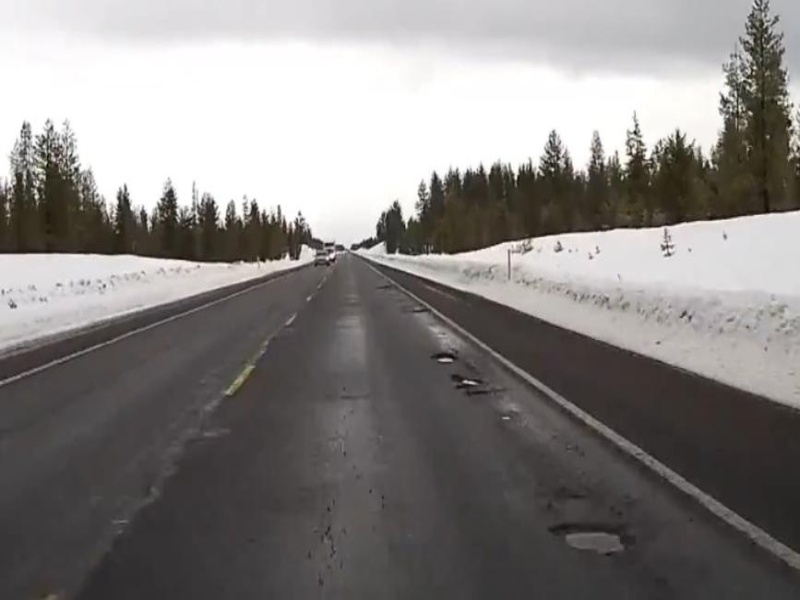pothole: (546, 517, 636, 559), (430, 351, 456, 367)
